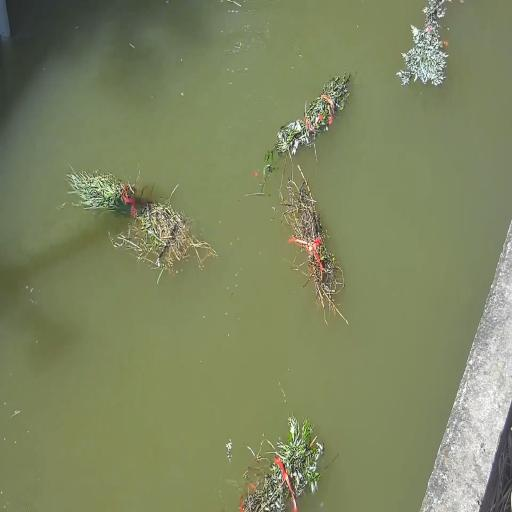twig: (67, 164, 217, 283), (280, 165, 347, 323), (264, 73, 350, 181), (241, 415, 323, 511), (397, 0, 451, 85)
